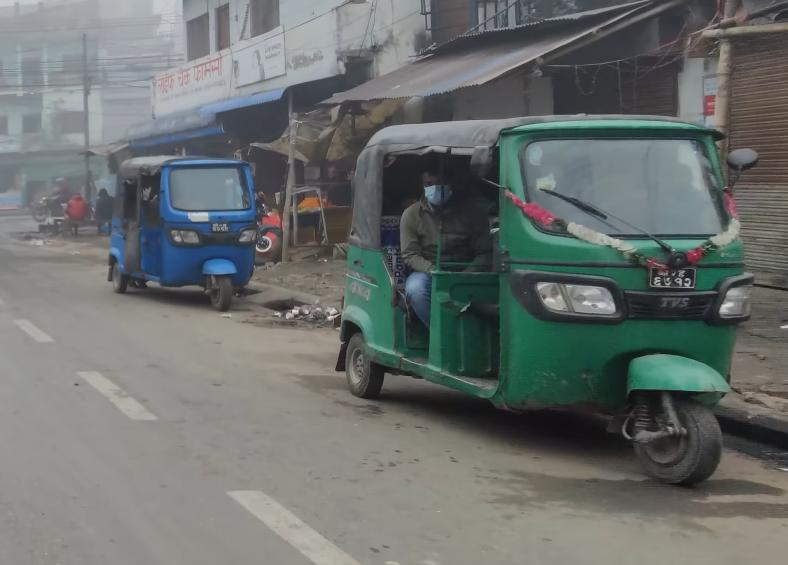auto_rickshaw: (333, 101, 758, 499), (107, 152, 266, 320)
